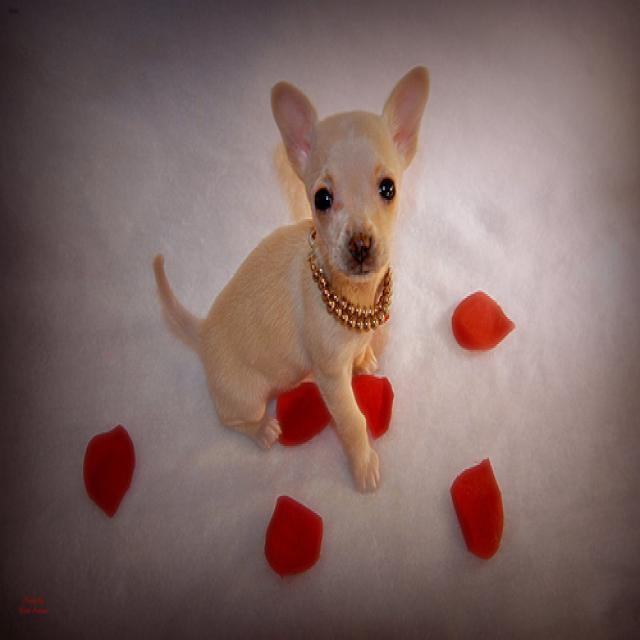dog-chihuahua: (148, 52, 438, 504)
